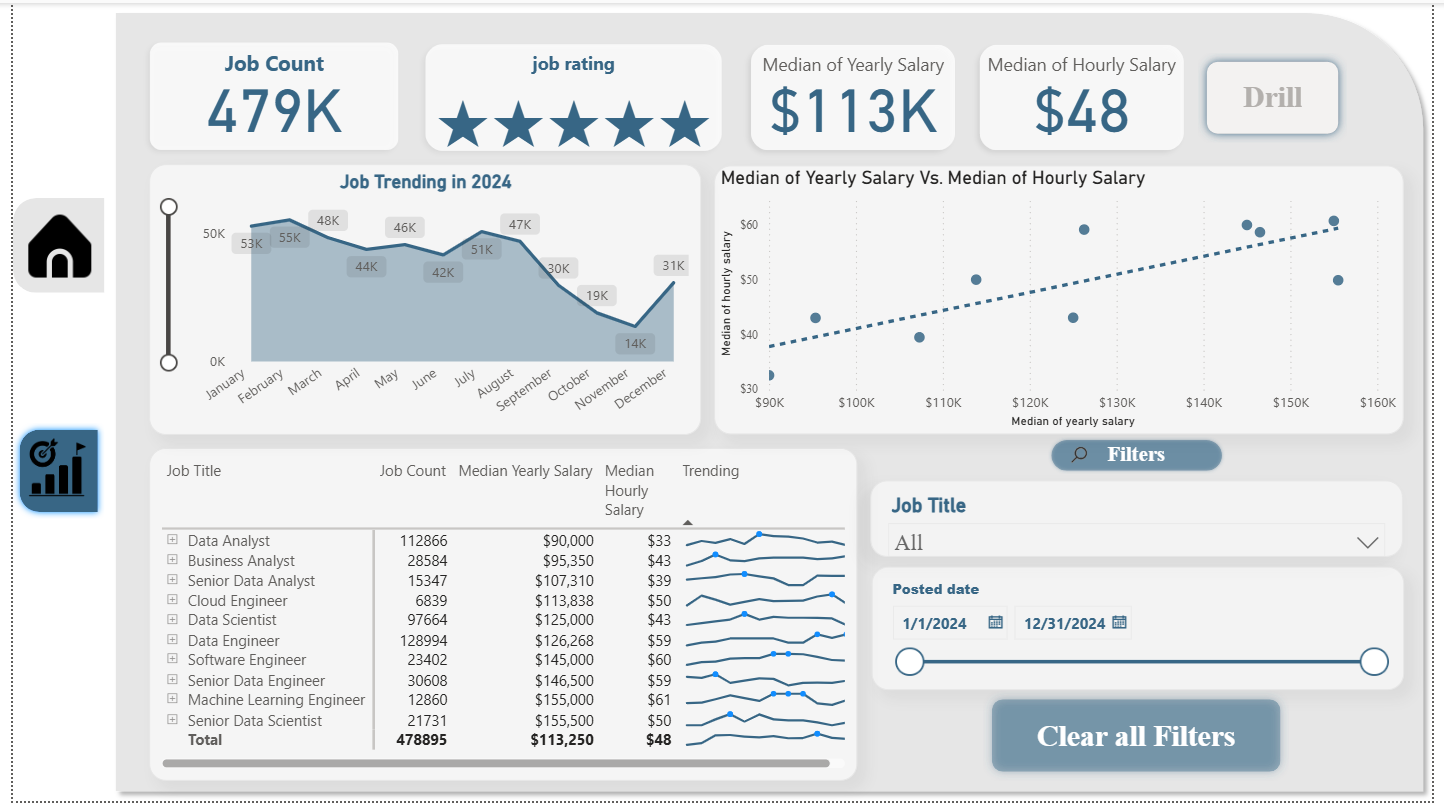

The page's visual inventory and layout, read from the dashboard file:
{"tool":"powerbi","page":{"name":"Dashboard","canvas":[1280,720],"ordinal":1},"visuals":[{"type":"shape","box":[0,378.8,82.5,86.2],"z":0},{"type":"shape","box":[82.9,0,1197.1,720],"z":1000},{"type":"shape","box":[0,175.4,82.6,85.5],"z":2000},{"type":"image","box":[8.6,185.7,66.4,66.4],"z":3000},{"type":"pivotTable","fields":{"Rows":["job_postings_flat.job_title_short","job_postings_flat.job_posted_date.Variation.Date Hierarchy.Quarter"],"Values":["CountNonNull(job_postings_flat.job_title_short)","Median(job_postings_flat.salary_year_avg)","Median(job_postings_flat.salary_hour_avg)","SparklineData(Median(job_postings_flat.salary_year_avg)_[job_postings_flat.job_posted_date.Variation.Date Hierarchy.Mont"]},"box":[122.5,401.2,638.8,300],"z":4000},{"type":"image","box":[0,385,80,76.2],"z":5000},{"type":"lineChart","title":"Job Trending in 2024","fields":{"Category":["job_postings_flat.job_posted_date.Variation.Date Hierarchy.Year","job_postings_flat.job_posted_date.Variation.Date Hierarchy.Quarter","job_postings_flat.job_posted_date.Variation.Date Hierarchy.Month","job_postings_flat.job_posted_date.Variation.Date Hierarchy.Day"],"Y":["CountNonNull(job_postings_flat.job_title_short)"]},"box":[122.5,145,497.5,243.8],"z":6000},{"type":"cardVisual","fields":{"Data":["CountNonNull(job_postings_flat.job_title_short)"]},"box":[111.2,23.8,248.8,121.2],"z":7000},{"type":"cardVisual","fields":{"Data":["job_postings_flat.job rating"]},"box":[360,24.3,292.9,121.4],"z":8000},{"type":"cardVisual","fields":{"Data":["Median(job_postings_flat.salary_year_avg)","Median(job_postings_flat.salary_hour_avg)"]},"box":[652.5,25,416.2,121.2],"z":9000},{"type":"scatterChart","title":"Median of Yearly Salary Vs. Median of Hourly Salary","fields":{"Category":["job_postings_flat.job_title_short"],"X":["Median(job_postings_flat.salary_year_avg)"],"Y":["Median(job_postings_flat.salary_hour_avg)"]},"box":[632.5,146.2,621.2,242.5],"z":10000},{"type":"slicer","fields":{"Values":["job_postings_flat.job_title_short"]},"box":[773.8,430,480,68.8],"z":11000},{"type":"slicer","fields":{"Values":["job_postings_flat.job_posted_date"]},"box":[774.3,508.6,480,111.2],"z":12000},{"type":"actionButton","box":[875,620,276.2,81.2],"z":13000},{"type":"shape","box":[933.8,391.2,160,33.8],"z":14000},{"type":"image","box":[943.8,390,36.2,37.5],"z":15000},{"type":"textbox","box":[943.8,391.2,138.8,35],"z":16000},{"type":"actionButton","box":[1068.8,45.2,134.5,80.7],"z":17000}]}

Visuals, with their boxes in screenshot pixels (x1, y1, x2, y2), scaled from the page's 1280x720 canvas onto the 1444x803 screenshot:
shape: crop(0, 422, 93, 519)
shape: crop(94, 0, 1443, 802)
shape: crop(0, 196, 93, 291)
image: crop(10, 207, 85, 281)
pivotTable - job_postings_flat.job_title_short x job_postings_flat.job_posted_date.Variation.Date Hierarchy.Quarter: crop(138, 447, 859, 782)
image: crop(0, 429, 90, 514)
"Job Trending in 2024" lineChart: crop(138, 162, 699, 434)
cardVisual - CountNonNull(job_postings_flat.job_title_short): crop(125, 27, 406, 162)
cardVisual - job_postings_flat.job rating: crop(406, 27, 737, 162)
cardVisual - Median(job_postings_flat.salary_year_avg) x Median(job_postings_flat.salary_hour_avg): crop(736, 28, 1206, 163)
"Median of Yearly Salary Vs. Median of Hourly Salary" scatterChart: crop(714, 163, 1414, 434)
slicer - job_postings_flat.job_title_short: crop(873, 480, 1414, 556)
slicer - job_postings_flat.job_posted_date: crop(874, 567, 1415, 691)
actionButton: crop(987, 691, 1299, 782)
shape: crop(1053, 436, 1234, 474)
image: crop(1065, 435, 1106, 477)
textbox: crop(1065, 436, 1221, 475)
actionButton: crop(1206, 50, 1357, 140)
